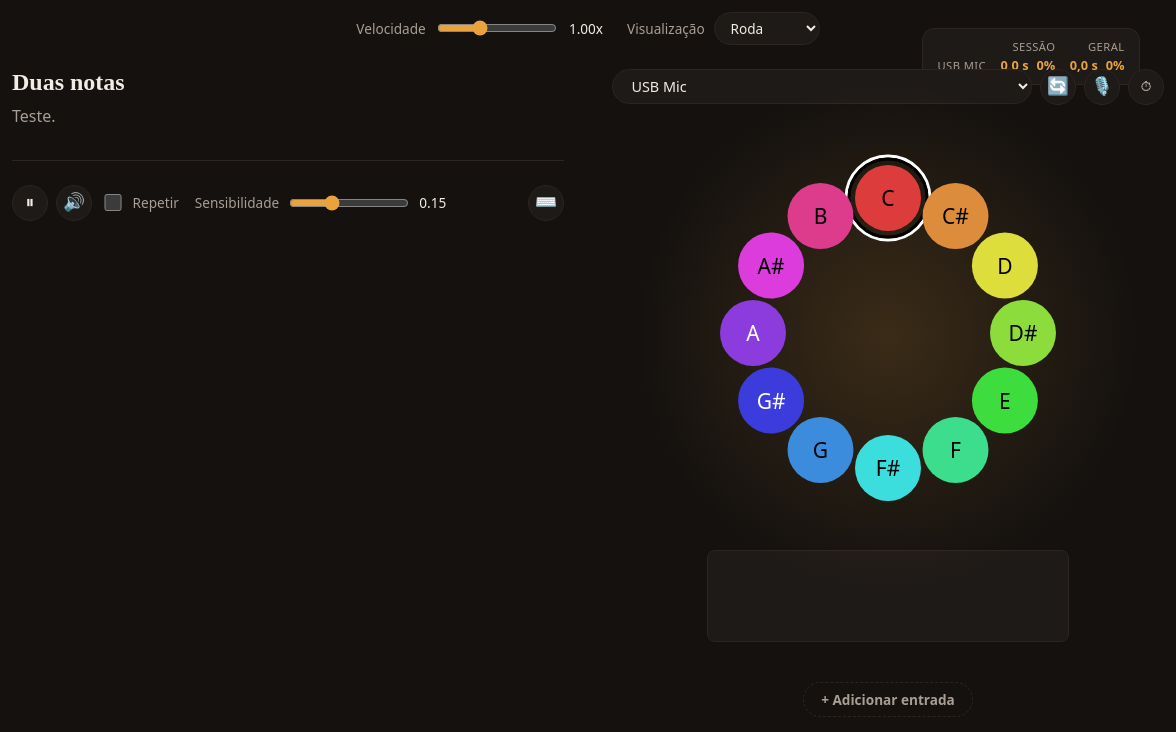
it: ExercisePlayer input latency › saves the latency set in a lane
Click the button named "Atraso da entrada": click(1146, 87) 1128,69 -> 1164,105
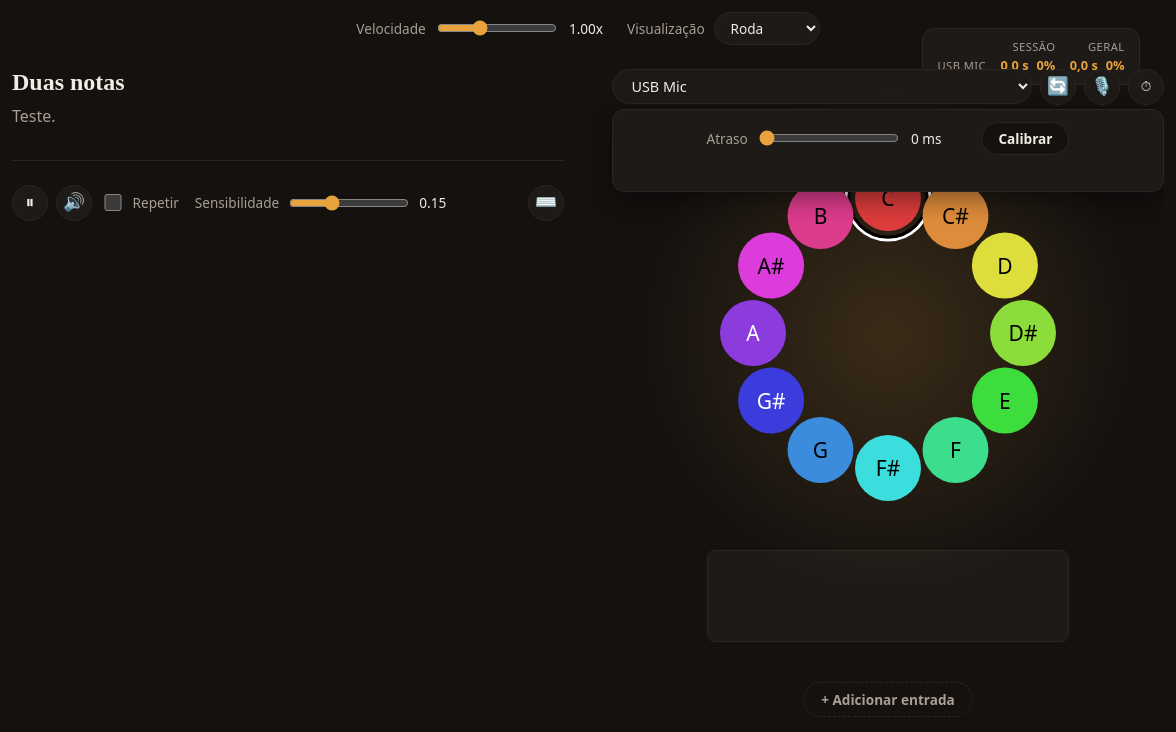
Set the slider labelled "Atraso" to "300": (805, 138) 759,130 -> 899,146
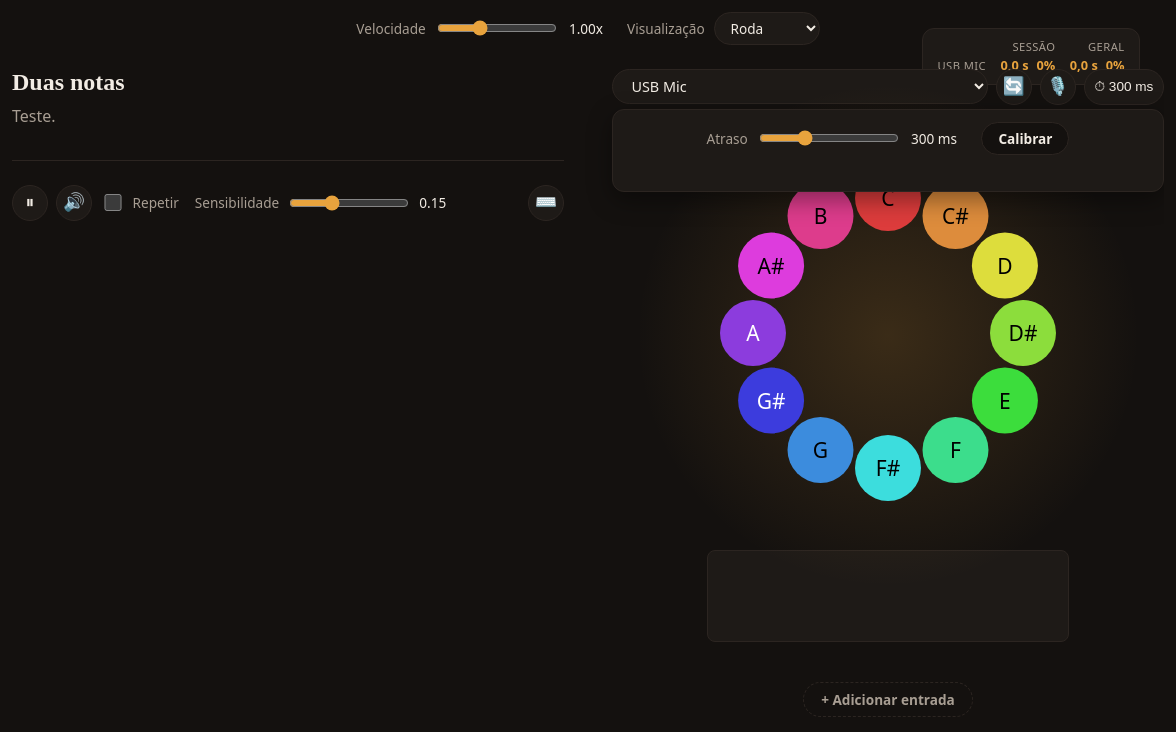
Check: the button with aria-label "Atraso da entrada" reads "⏱ 300 ms", box 1084,69 -> 1164,105
